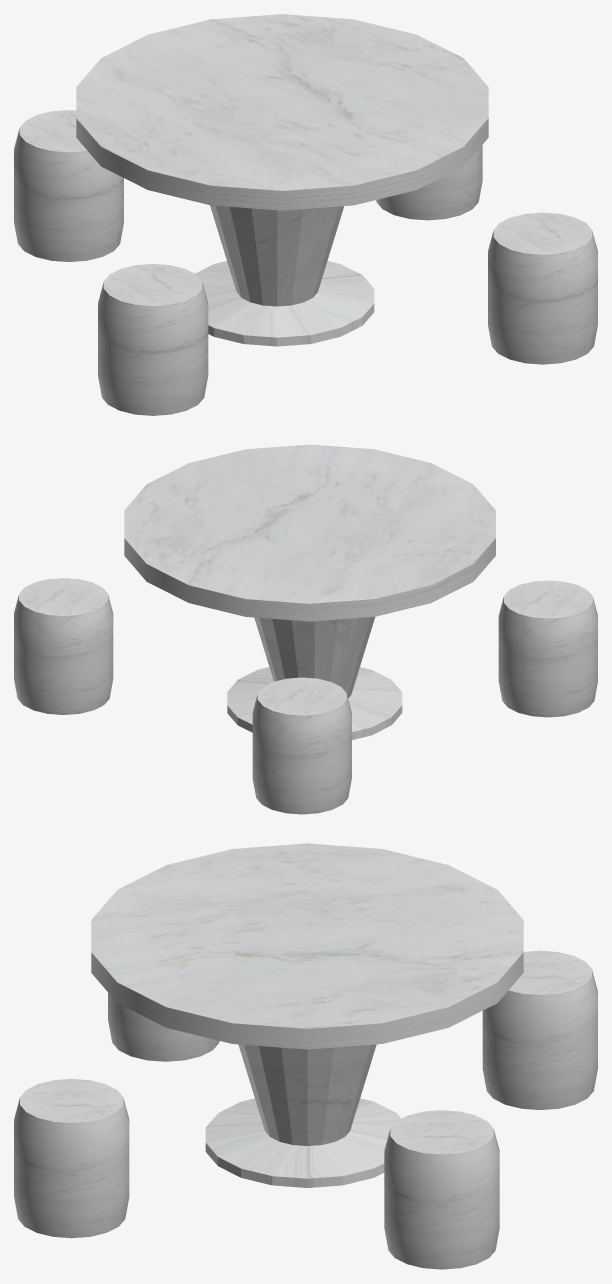
File: shizhuo.FBX
3 renders of one model, top to bottom at view 1: azimuth 30°, elevation 25°; view 2: azimuth 150°, elevation 25°; view 3: azimuth 270°, elevation 25°, orthographic. The views are drawn at different scales.
Parts seen in each view (by area): view 1: Cylinder001; view 2: Cylinder001; view 3: Cylinder001.
Part boxes in pixels (<box>): Cylinder001: <box>14,14,597,415</box>; Cylinder001: <box>14,444,597,814</box>; Cylinder001: <box>14,843,597,1269</box>.
Bounding box in the file's own units: 104 × 39.85 × 100.
Materials: 1 (1 with a texture image).
